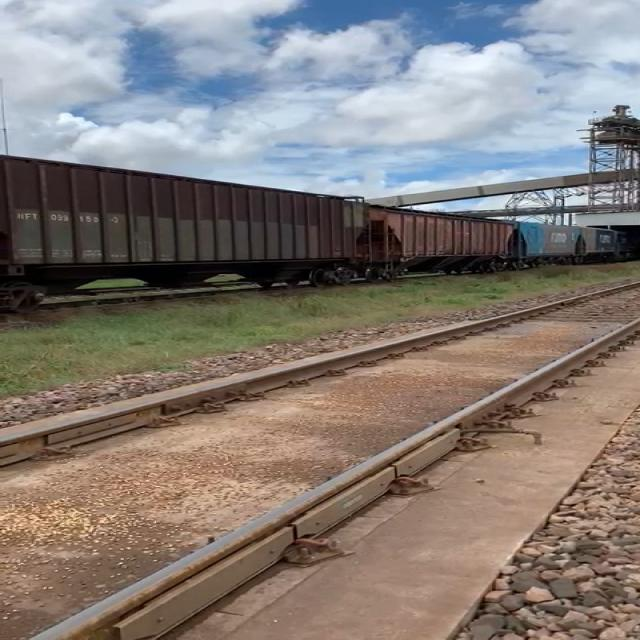hopper: (0, 143, 365, 319), (366, 202, 518, 283), (516, 214, 582, 268)
